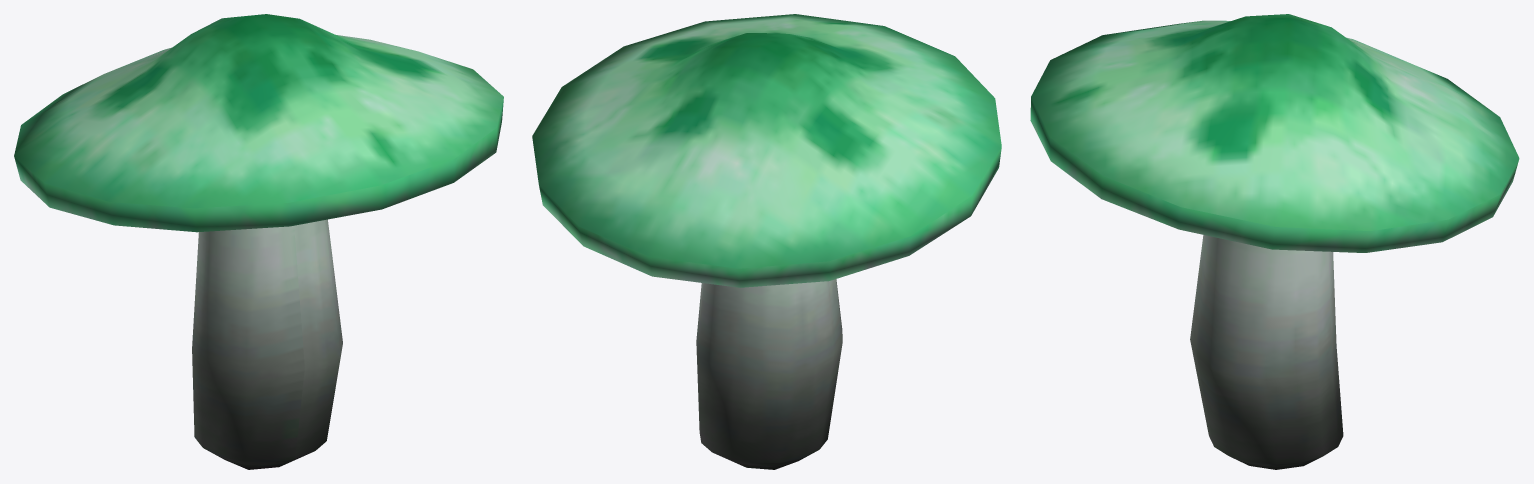
The model's file is INST_TROLLHOLE_SHROOMB1.fbx.
3 views of the same model, side by side, from view 1: azimuth 30°, elevation 25°; view 2: azimuth 150°, elevation 25°; view 3: azimuth 270°, elevation 25° (orthographic). The views are drawn at different scales.
Visible parts, largest first — view 1: INST_TROLLHOLE_SHROOMB1; view 2: INST_TROLLHOLE_SHROOMB1; view 3: INST_TROLLHOLE_SHROOMB1.
Part boxes in pixels (bbox=[...]): INST_TROLLHOLE_SHROOMB1: bbox=[14, 14, 503, 469]; INST_TROLLHOLE_SHROOMB1: bbox=[532, 14, 1001, 469]; INST_TROLLHOLE_SHROOMB1: bbox=[1030, 14, 1519, 469].
Size of the model in its own units: 5668 by 5542 by 5623.
Materials: 1 (1 with a texture image).
